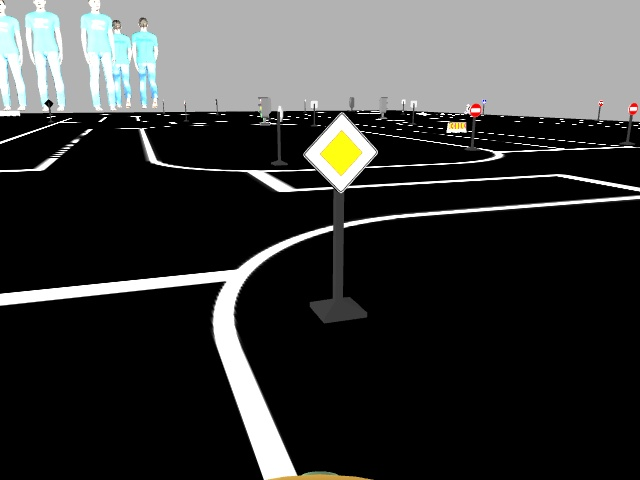ClosedRoadStand: (443, 119, 467, 135)
NoEntry: (468, 103, 483, 119), (626, 102, 639, 116)
Priority: (301, 111, 379, 193)
